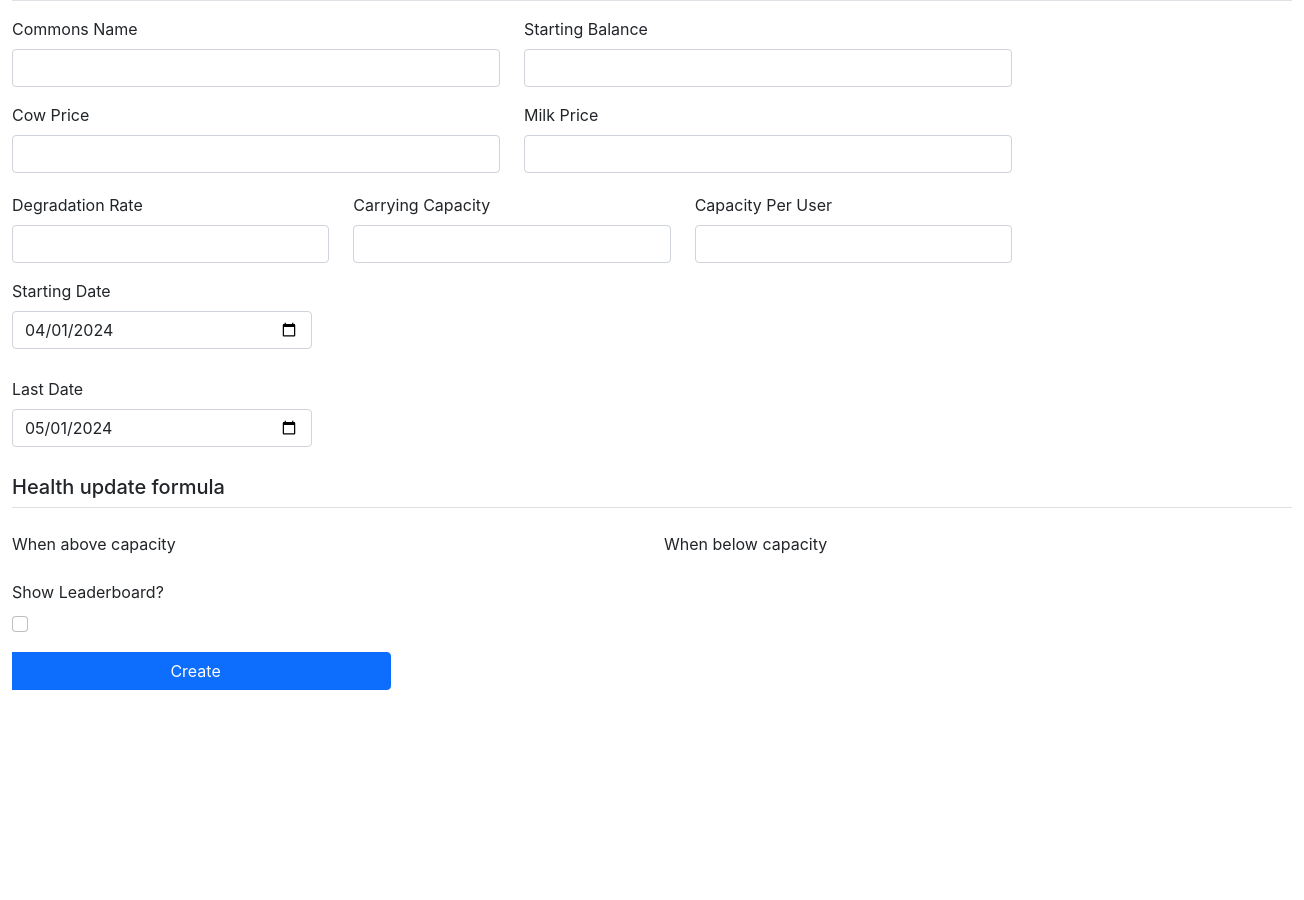
it: CommonsForm tests › sets default values when defaults are available and initialCommons is not provided
The width and height of the screenshot is (1304, 900).
Type "0" into the number field with test id "CommonsForm-startingBalance" at (768, 68), box [524,49,1012,87]
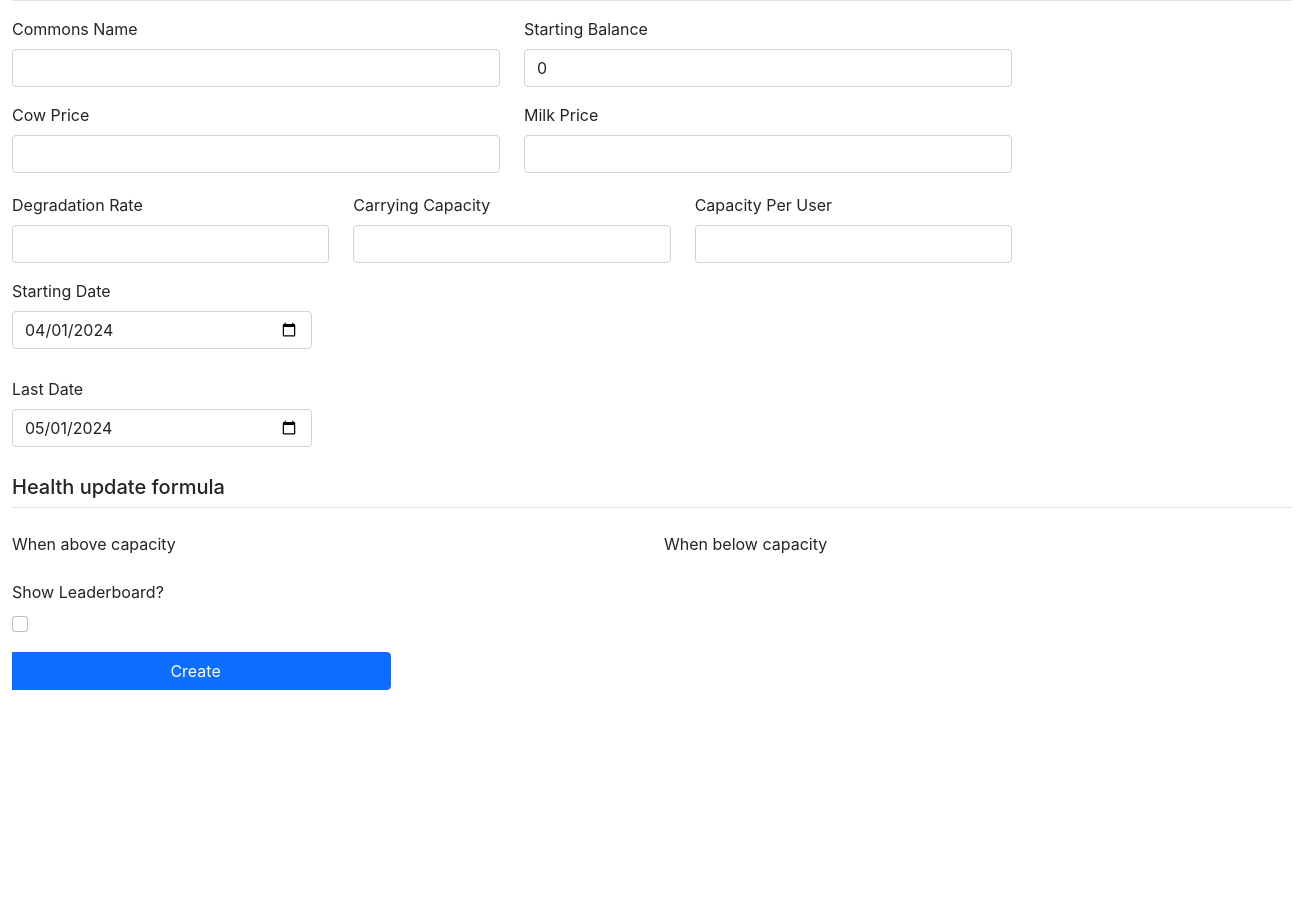
Type "0" into the number field with test id "CommonsForm-cowPrice" at (256, 154), box [12,135,500,173]
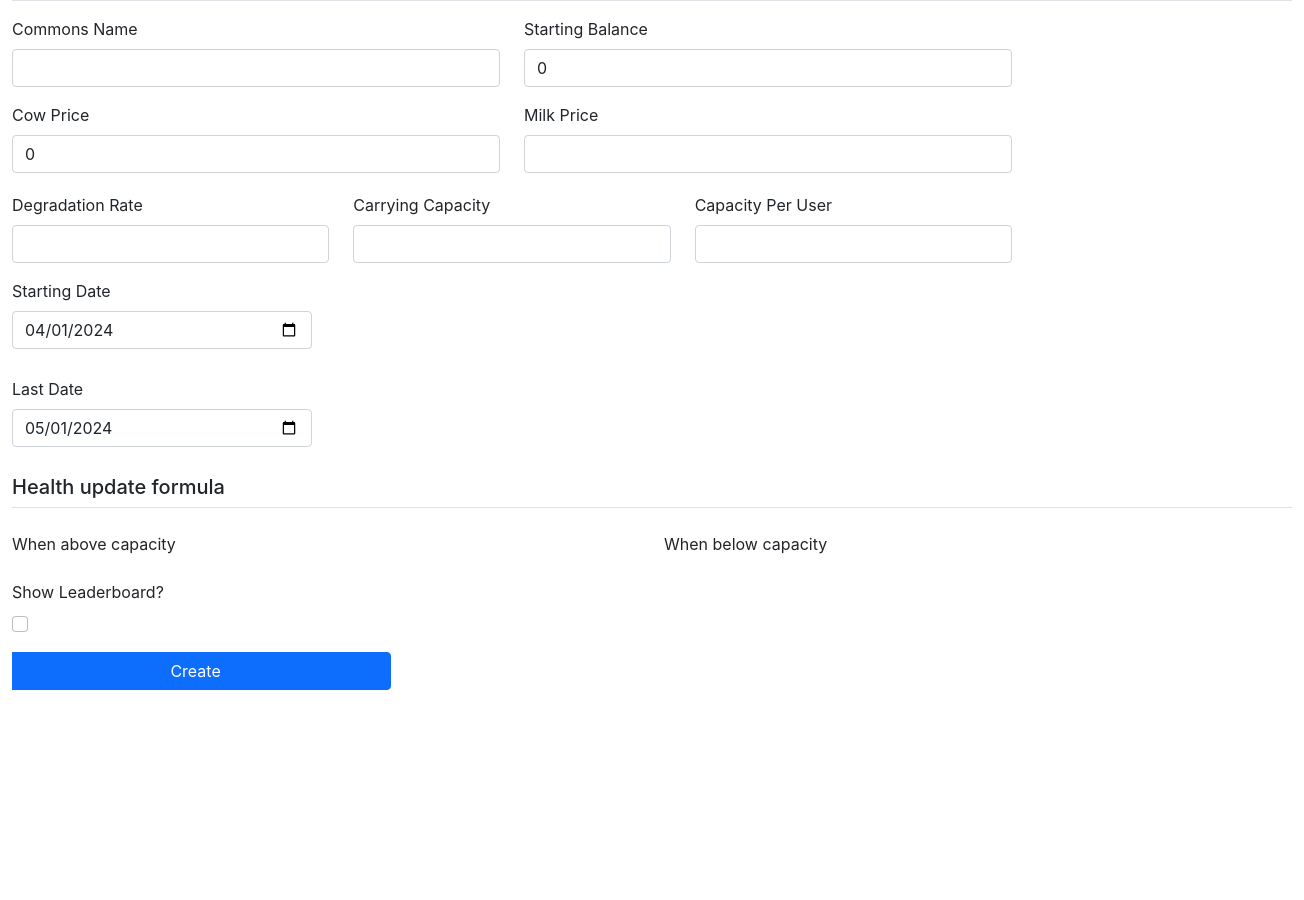
Type "0" into the number field with test id "CommonsForm-milkPrice" at (768, 154), box [524,135,1012,173]
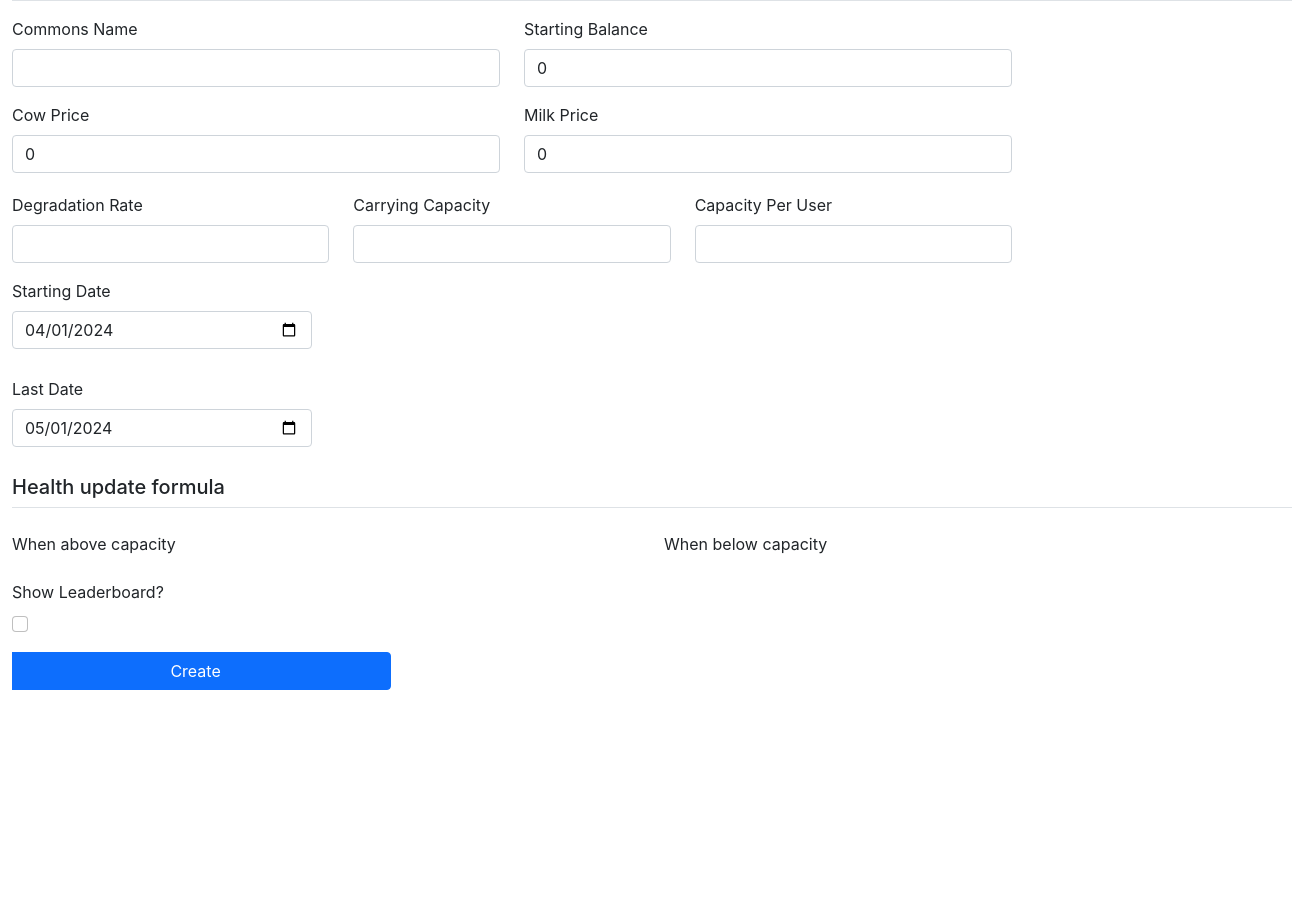
Type "0" into the number field with test id "CommonsForm-degradationRate" at (171, 244), box [12,225,329,263]
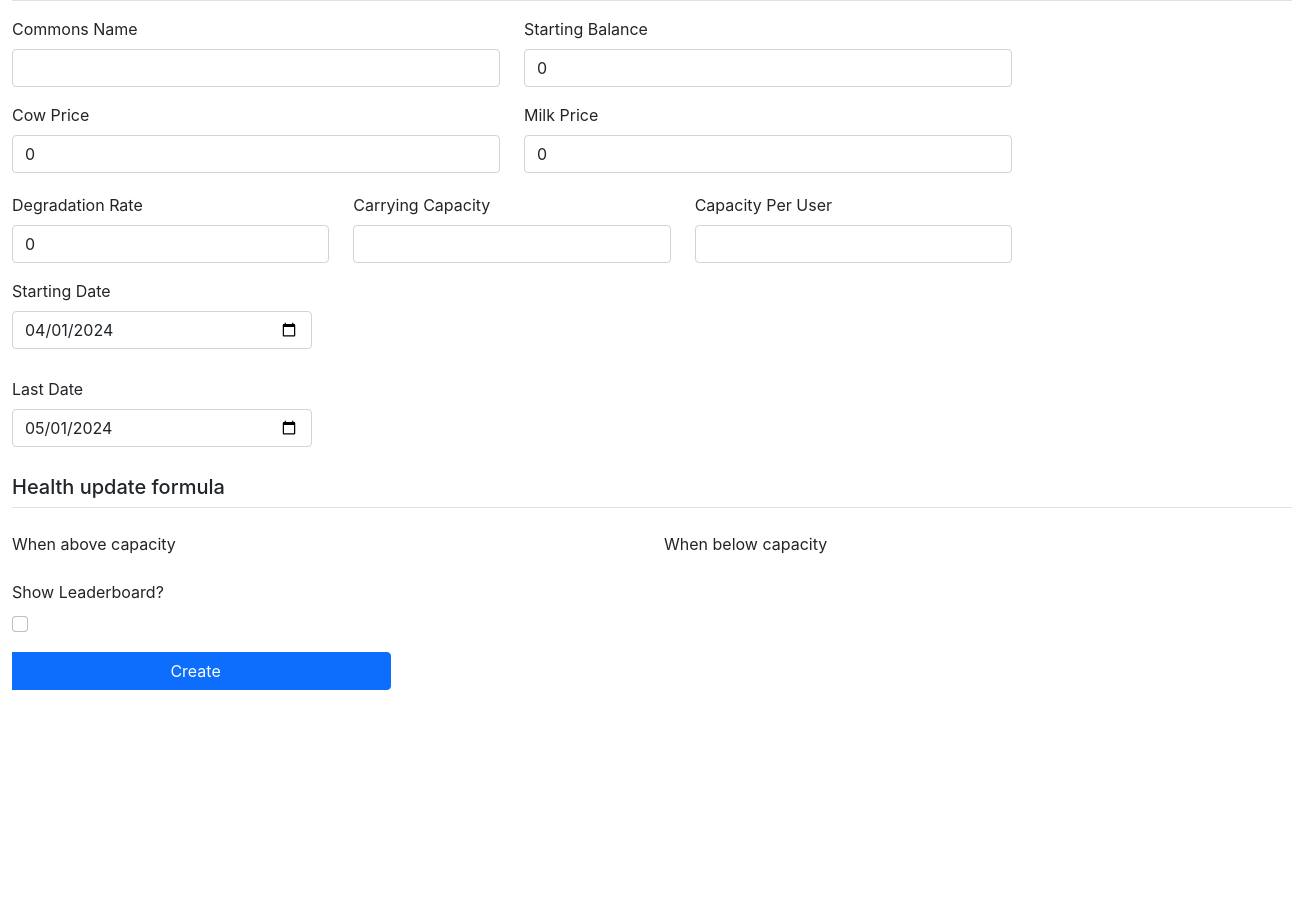
Type "0" into the number field with test id "CommonsForm-carryingCapacity" at (512, 244), box [353,225,671,263]
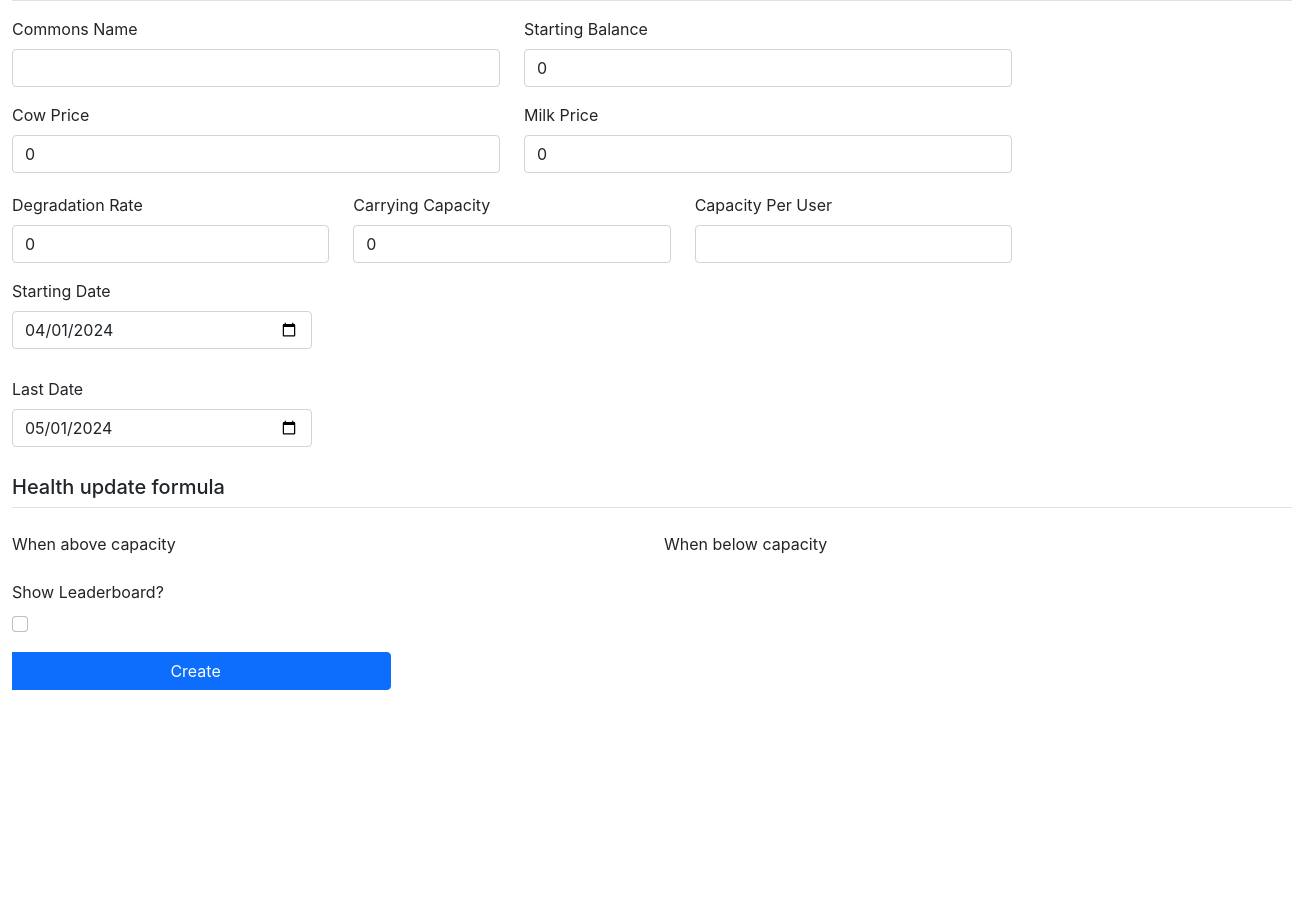
Type "0" into the number field with test id "CommonsForm-capacityPerUser" at (853, 244), box [695,225,1012,263]
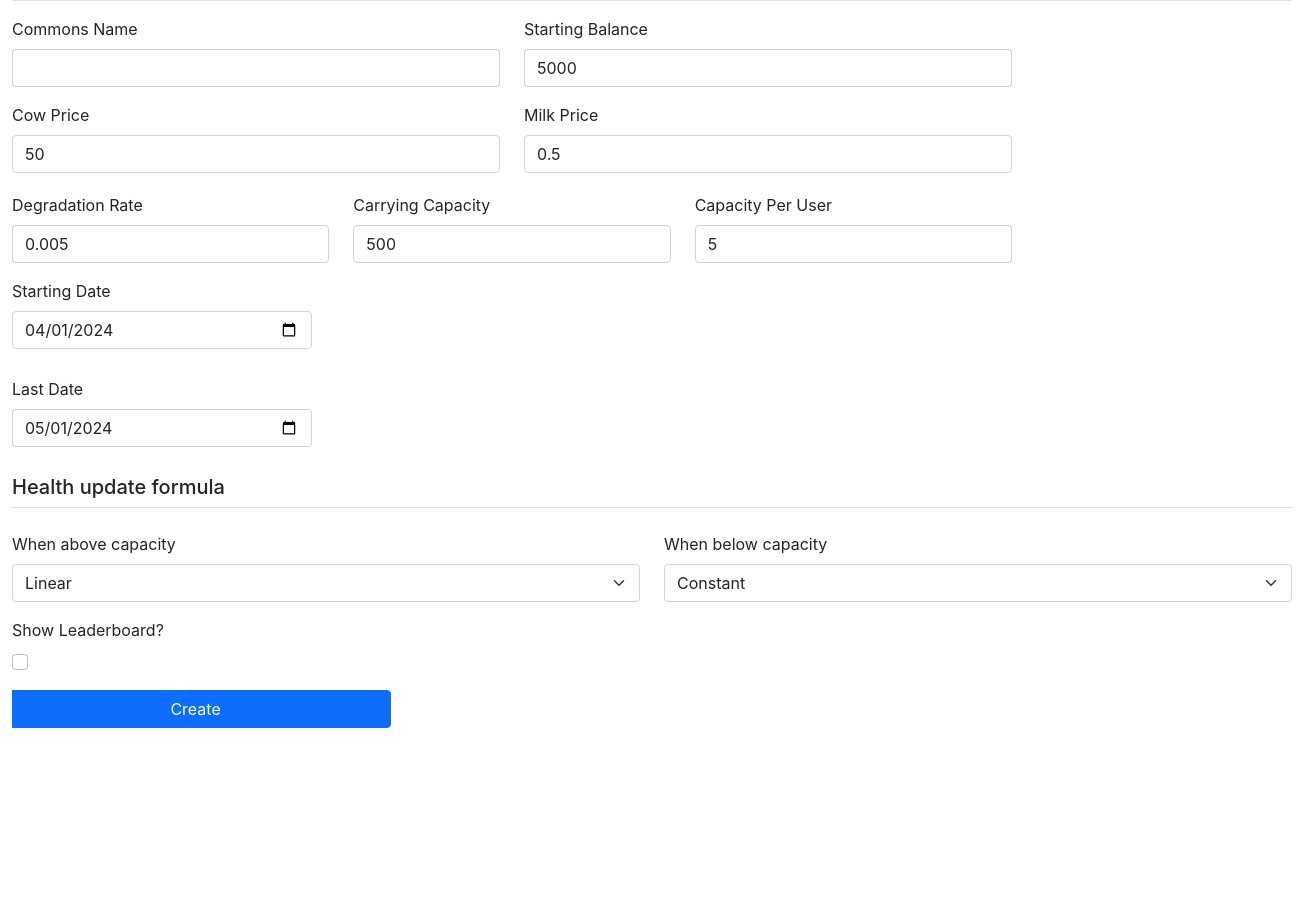
Result: the number field with test id "CommonsForm-startingBalance" holds "5000" at [524,49,1012,87]
Result: the number field with test id "CommonsForm-cowPrice" holds "50" at [12,135,500,173]
Result: the number field with test id "CommonsForm-milkPrice" holds "0.5" at [524,135,1012,173]
